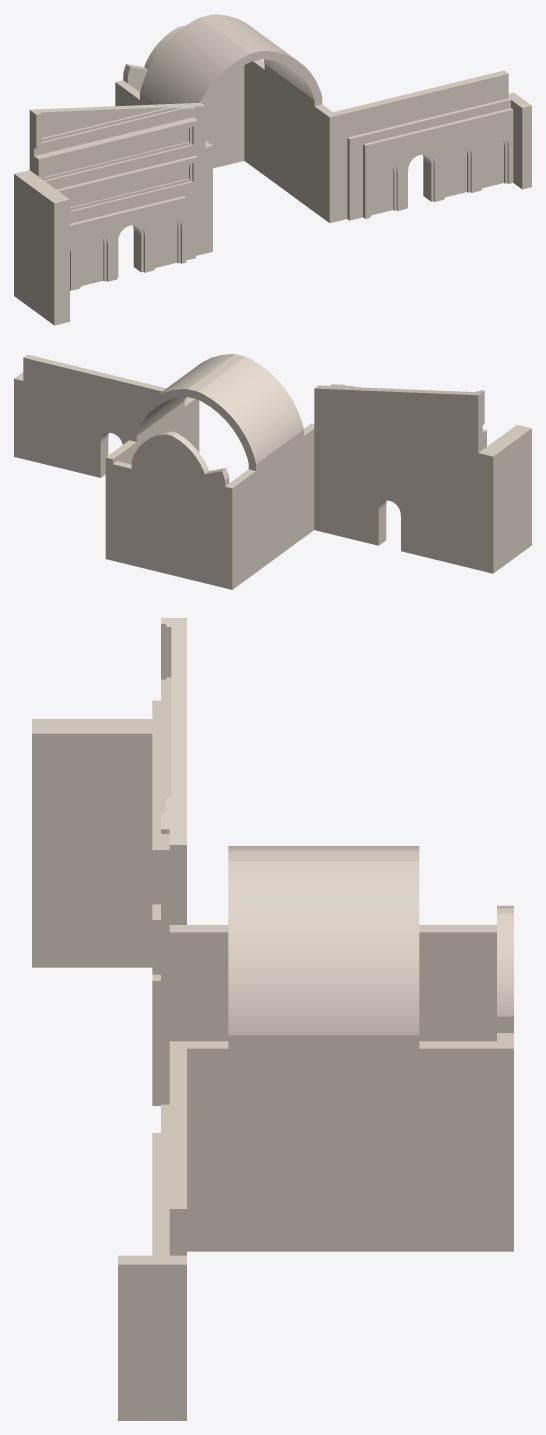
Rendered from TUQ KISRA.glb.
The picture shows the model from 3 angles, top to bottom: view 1: azimuth 30°, elevation 25°; view 2: azimuth 150°, elevation 25°; view 3: azimuth 270°, elevation 25°; orthographic projection. The views are drawn at different scales.
Visible parts, largest first — view 1: Geom3D; view 2: Geom3D; view 3: Geom3D.
Boxes of the visible parts, bbox=[...] form: Geom3D: bbox=[14, 14, 531, 325]; Geom3D: bbox=[14, 354, 531, 589]; Geom3D: bbox=[32, 618, 513, 1420].
Size of the model in its own units: 6.43 by 2.24 by 2.8.
